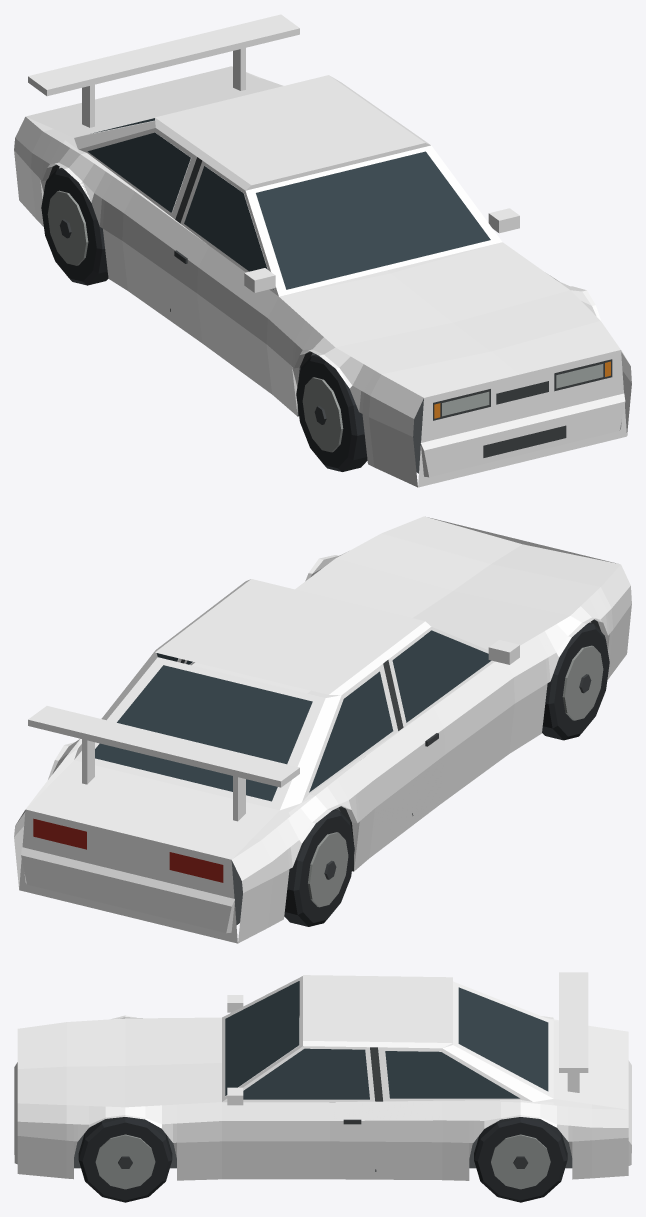
File: kanaya_kasumi_corrida.glb
3 renders of one model, top to bottom at view 1: azimuth 30°, elevation 25°; view 2: azimuth 150°, elevation 25°; view 3: azimuth 270°, elevation 25°, orthographic. The views are drawn at different scales.
Visible parts, largest first — view 1: kanaya_kasumi_corrida; view 2: kanaya_kasumi_corrida; view 3: kanaya_kasumi_corrida.
Boxes of the visible parts, bbox=[...] form: kanaya_kasumi_corrida: bbox=[14, 14, 631, 487]; kanaya_kasumi_corrida: bbox=[14, 516, 631, 943]; kanaya_kasumi_corrida: bbox=[14, 972, 631, 1202].
Size of the model in its own units: 1.79 by 1.21 by 4.61.
Materials: 8 (1 with a texture image).
